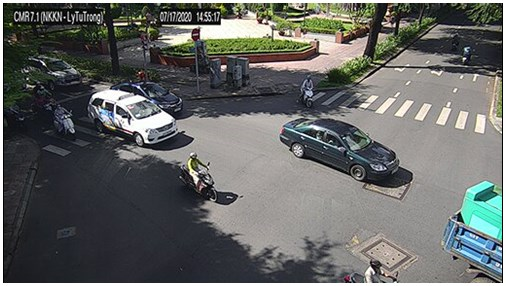xe_ba_gac: (441, 181, 503, 283)
xe_hoi: (280, 118, 400, 183), (110, 80, 183, 113), (27, 55, 82, 90)
xe_may: (179, 152, 218, 203), (344, 259, 402, 283), (53, 104, 78, 144), (32, 91, 54, 122), (7, 101, 26, 131), (299, 74, 315, 108), (461, 45, 472, 65), (451, 30, 462, 50)
xe_taxi: (87, 90, 179, 148)
